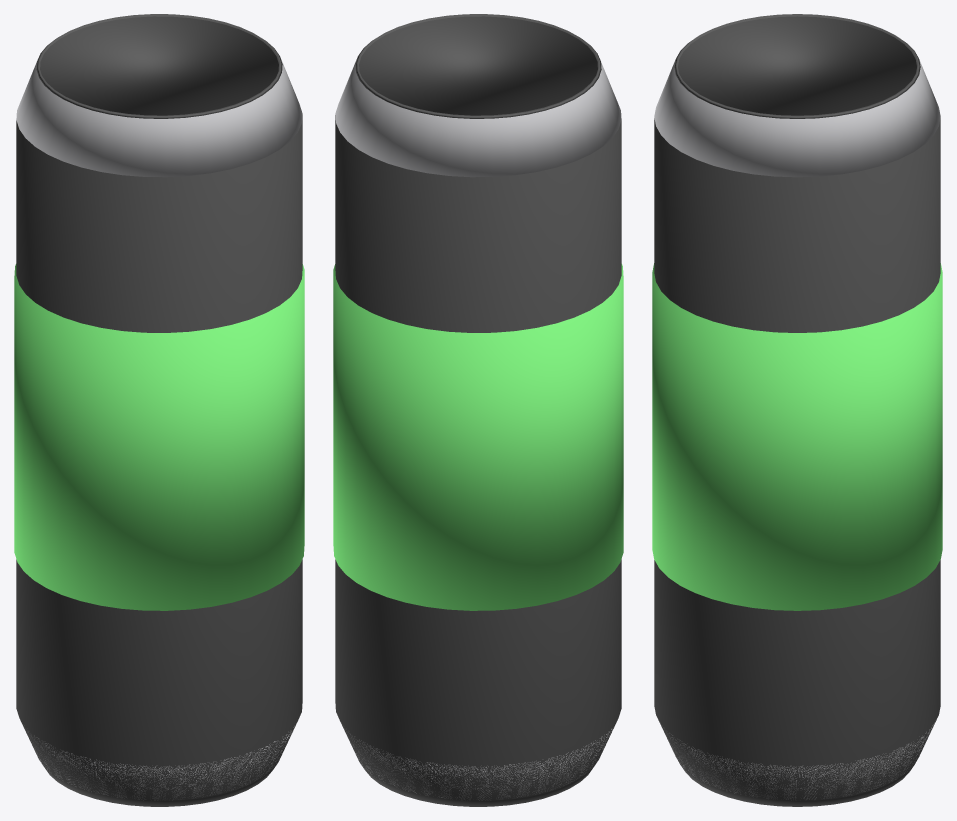
Rendered from SM_EnergyDrink.glb.
3 views of the same model, side by side, from view 1: azimuth 30°, elevation 25°; view 2: azimuth 150°, elevation 25°; view 3: azimuth 270°, elevation 25° (orthographic).
Parts seen in each view (by area): view 1: SM_EnergyDrink; view 2: SM_EnergyDrink; view 3: SM_EnergyDrink.
Boxes of the visible parts, x1,y1,x2,y2 form: SM_EnergyDrink: [14, 14, 304, 806]; SM_EnergyDrink: [333, 14, 623, 806]; SM_EnergyDrink: [652, 14, 942, 806].
Bounding box in the file's own units: 0.0608 × 0.16 × 0.0608.
